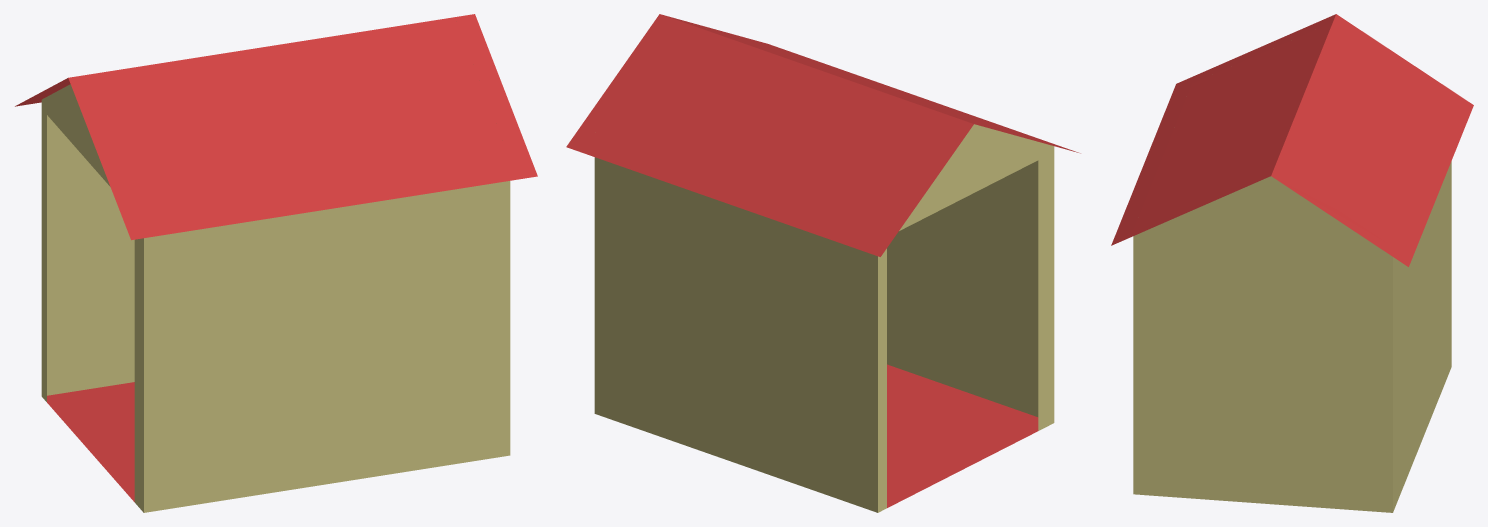
The picture shows the model from 3 angles, left to right: view 1: azimuth 30°, elevation 25°; view 2: azimuth 150°, elevation 25°; view 3: azimuth 270°, elevation 25°; orthographic projection. The views are drawn at different scales.
Visible parts, largest first — view 1: group_5, group_3, group_4, group_6; view 2: group_5, group_3, group_6, group_4; view 3: group_5, group_3, group_4.
Boxes of the visible parts, bbox=[...] form: group_5: bbox=[41, 84, 510, 512]; group_3: bbox=[15, 17, 509, 240]; group_4: bbox=[56, 14, 537, 239]; group_6: bbox=[47, 382, 134, 501]; group_5: bbox=[594, 124, 1054, 512]; group_3: bbox=[595, 14, 1051, 256]; group_6: bbox=[887, 364, 1038, 507]; group_4: bbox=[566, 14, 1080, 256]; group_5: bbox=[1133, 161, 1451, 512]; group_3: bbox=[1133, 14, 1451, 246]; group_4: bbox=[1111, 14, 1473, 266].
Bounding box in the file's own units: 16.86 × 14.09 × 14.41.
